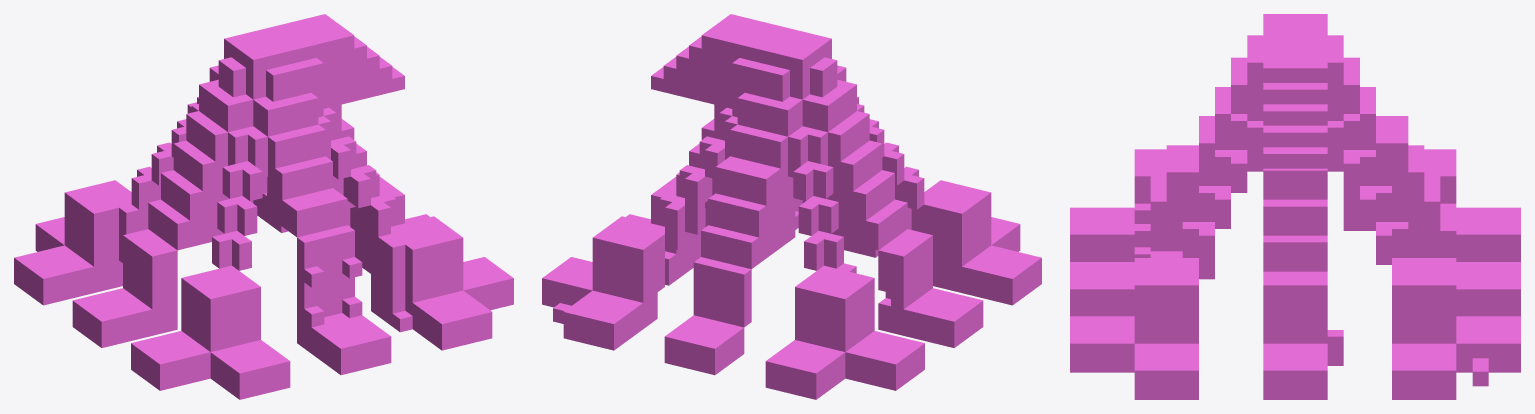
The picture shows the model from 3 angles, left to right: view 1: azimuth 30°, elevation 25°; view 2: azimuth 150°, elevation 25°; view 3: azimuth 270°, elevation 25°; orthographic projection. The views are drawn at different scales.
Parts seen in each view (by area): view 1: 62.1; view 2: 62.1; view 3: 62.1.
Boxes of the visible parts, x1,y1,x2,y2 form: 62.1: (14,14,513,399); 62.1: (542,14,1041,399); 62.1: (1070,14,1520,399).
Bounding box in the file's own units: 280 × 190 × 280.
Materials: 1 (1 with a texture image).
